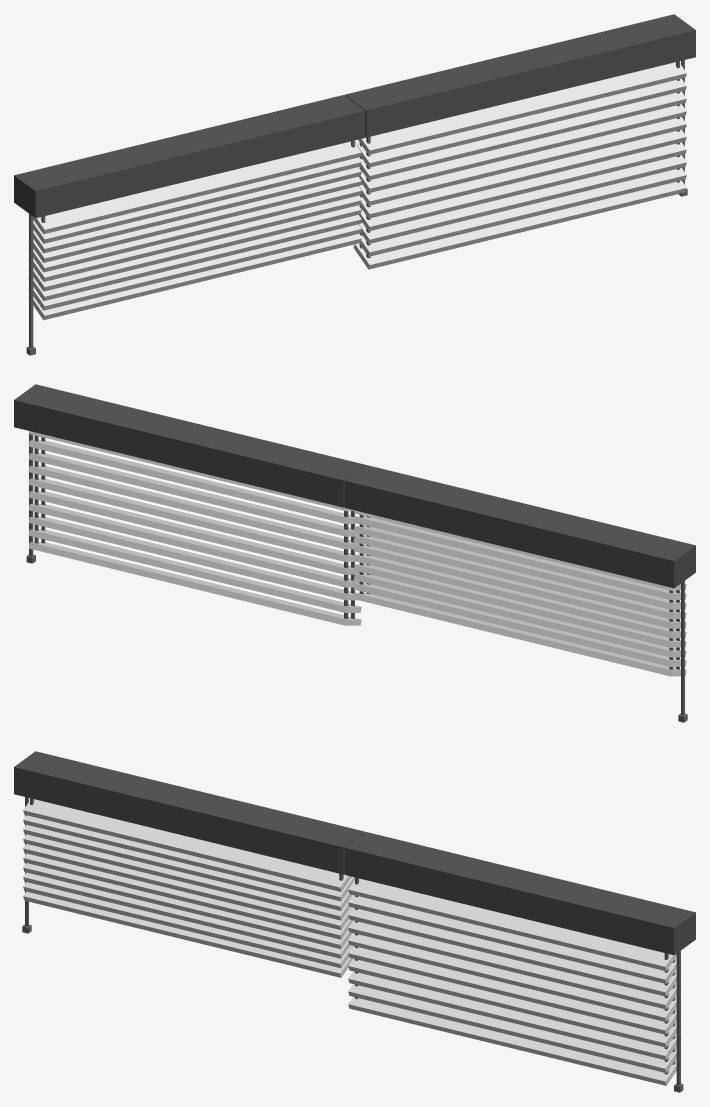
The model's file is Curtains15_C1.fbx.
3 renders of one model, top to bottom at view 1: azimuth 30°, elevation 25°; view 2: azimuth 150°, elevation 25°; view 3: azimuth 330°, elevation 25°, orthographic.
Visible parts, largest first — view 1: Curtains15_C1; view 2: Curtains15_C1; view 3: Curtains15_C1.
Boxes of the visible parts, x1,y1,x2,y2 form: Curtains15_C1: (14, 14, 695, 355); Curtains15_C1: (14, 384, 695, 722); Curtains15_C1: (14, 751, 695, 1092).
Size of the model in its own units: 223 by 54.95 by 12.67.
